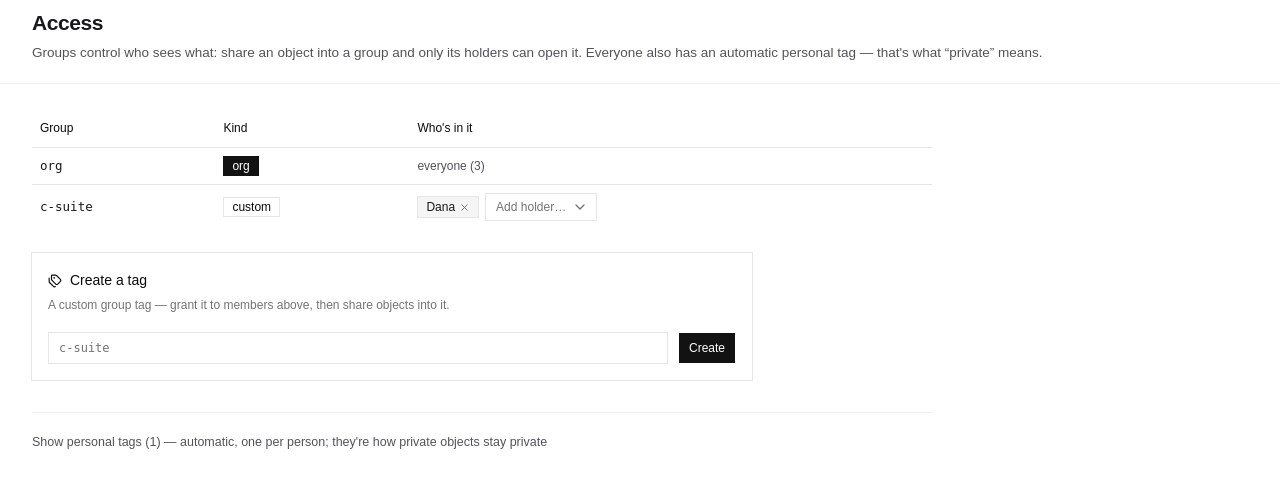
<AccessView /> › refuses a bad slug client-side — no request is made
Expected: the text "c-suite" is shown, [32,185,215,229]
Type "Not A Slug!" into the field named "Tag slug" at coordinates (358, 348), box [48,332,668,364]
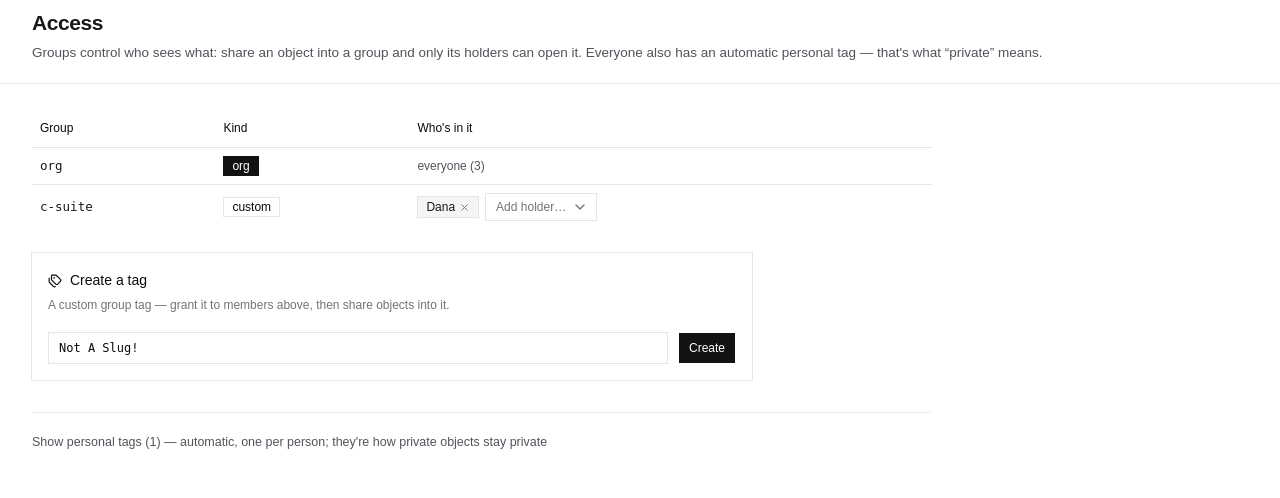
Click the button "Create" at coordinates (707, 348), box [678,332,736,364]
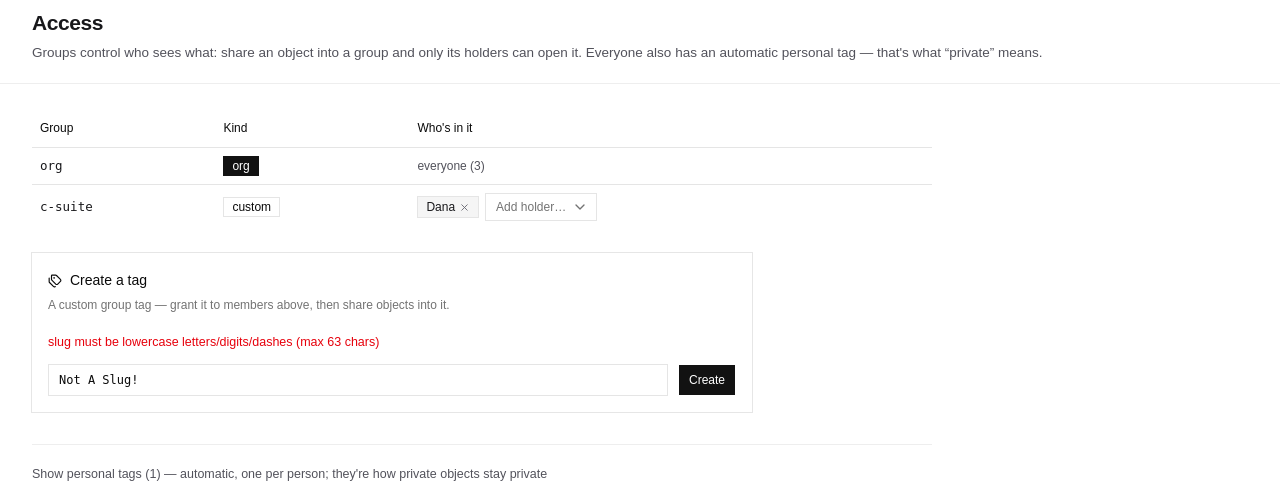
Now the text "slug must be lowercase letters/digits/dashes (max 63 chars)" is shown, box [48,334,379,348]
